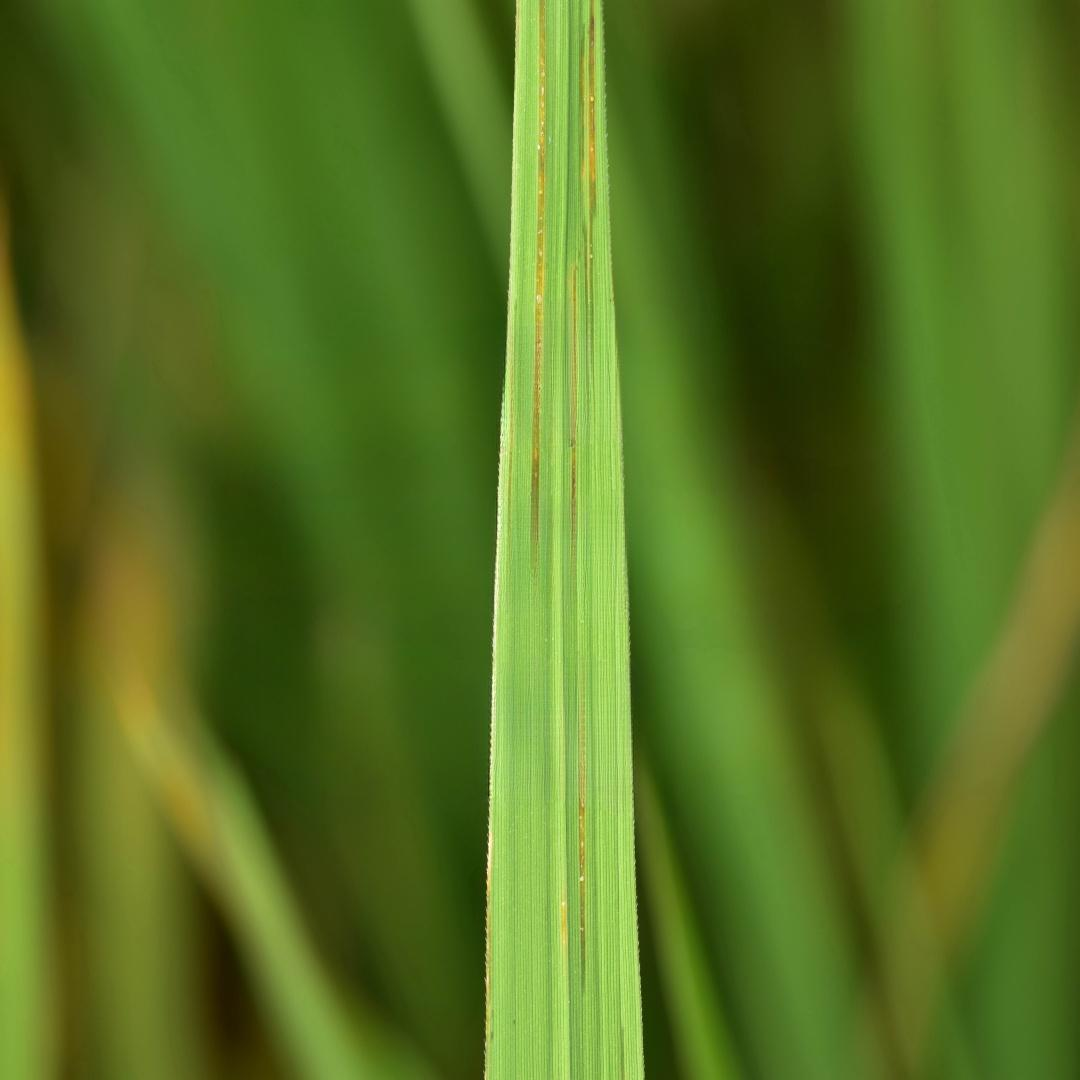BLS: (530, 0, 547, 568), (485, 763, 495, 1064), (589, 0, 596, 395), (579, 688, 587, 992), (570, 267, 577, 550)
LEAF: (485, 0, 642, 1079)
